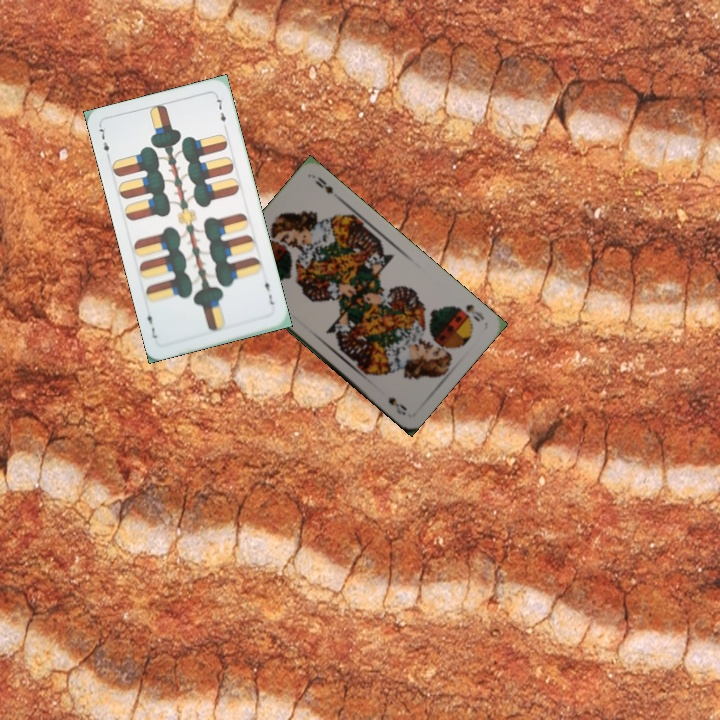E7: (95, 122, 112, 162), (261, 274, 277, 308)
SO: (453, 300, 487, 324)
